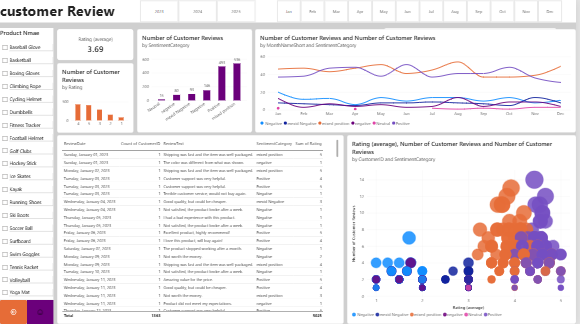

This screenshot's page, from the dashboard's own definition file:
{"tool":"powerbi","page":{"name":"Customer Review ","canvas":[1920,1080],"ordinal":3},"visuals":[{"type":"textbox","box":[0,0,1920,75.1],"z":0},{"type":"slicer","title":"Product Nmae","fields":{"Values":["products.ProductName"]},"box":[0,93.8,177.5,906.2],"z":1000},{"type":"cardVisual","fields":{"Data":["calculations.Rating (average)"]},"box":[190,95.5,255.5,104.5],"z":2000},{"type":"slicer","fields":{"Values":["Calendar.MonthNameShort"]},"box":[902.5,0,987.5,75],"z":3000},{"type":"slicer","fields":{"Values":["Calendar.Year"]},"box":[445,0,422.5,75],"z":4000},{"type":"lineChart","fields":{"Y":["calculations.Rating (average)"],"Category":["Calendar.MonthNameShort"]},"box":[1278.3,93.3,575,346.7],"z":5000},{"type":"clusteredColumnChart","fields":{"Y":["calculations.Number of Customer Reviews"],"Category":["customer_reviews_with_sentiment.Rating"]},"box":[190,208.3,255,233.3],"z":6000},{"type":"clusteredColumnChart","fields":{"Category":["customer_reviews_with_sentiment.SentimentCategory"],"Y":["calculations.Number of Customer Reviews"]},"box":[456.2,95,383.8,345],"z":7000},{"type":"lineChart","fields":{"Y":["calculations.Number of Customer Reviews"],"Category":["Calendar.MonthNameShort"],"Series":["customer_reviews_with_sentiment.SentimentCategory"]},"box":[850,95,1070,345],"z":8000},{"type":"tableEx","fields":{"Values":["customer_reviews_with_sentiment.ReviewDate","CountNonNull(customer_reviews_with_sentiment.CustomerID)","customer_reviews_with_sentiment.ReviewText","customer_reviews_with_sentiment.SentimentCategory","Sum(customer_reviews_with_sentiment.Rating)"]},"box":[190,450,955.6,630],"z":9000},{"type":"scatterChart","fields":{"Size":["calculations.Number of Customer Reviews"],"Series":["customer_reviews_with_sentiment.SentimentCategory"],"Y":["calculations.Number of Customer Reviews"],"Category":["customer_reviews_with_sentiment.CustomerID"],"X":["calculations.Rating (average)"]},"box":[1156.2,450,763.8,630],"z":10000},{"type":"actionButton","box":[0,1000,90,80],"z":11000},{"type":"actionButton","title":"home","box":[90,1000,88,80],"z":12000}]}

Visuals, with their boxes in screenshot pixels (x1, y1, x2, y2), scaled from the page's 1920x1080 canvas onto the 580x324 screenshot:
textbox: bbox(0, 0, 579, 23)
"Product Nmae" slicer: bbox(0, 28, 54, 300)
cardVisual - calculations.Rating (average): bbox(57, 29, 135, 60)
slicer - Calendar.MonthNameShort: bbox(273, 0, 571, 22)
slicer - Calendar.Year: bbox(134, 0, 262, 22)
lineChart - calculations.Rating (average) x Calendar.MonthNameShort: bbox(386, 28, 560, 132)
clusteredColumnChart - calculations.Number of Customer Reviews x customer_reviews_with_sentiment.Rating: bbox(57, 62, 134, 132)
clusteredColumnChart - customer_reviews_with_sentiment.SentimentCategory x calculations.Number of Customer Reviews: bbox(138, 28, 254, 132)
lineChart - calculations.Number of Customer Reviews x Calendar.MonthNameShort: bbox(257, 28, 579, 132)
tableEx - customer_reviews_with_sentiment.ReviewDate x CountNonNull(customer_reviews_with_sentiment.CustomerID): bbox(57, 135, 346, 323)
scatterChart - calculations.Number of Customer Reviews x customer_reviews_with_sentiment.SentimentCategory: bbox(349, 135, 579, 323)
actionButton: bbox(0, 300, 27, 323)
"home" actionButton: bbox(27, 300, 54, 323)
